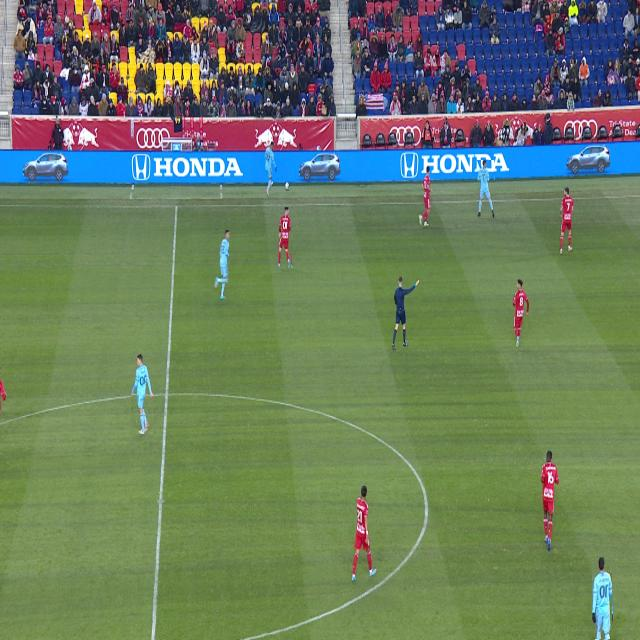player: (351, 485, 377, 582), (541, 451, 559, 551), (132, 355, 153, 435), (593, 558, 612, 639), (214, 230, 230, 299), (513, 279, 529, 348), (560, 187, 574, 254), (478, 161, 494, 218), (419, 167, 433, 227), (279, 207, 291, 269), (0, 379, 7, 418)
referee: (392, 276, 419, 349)
